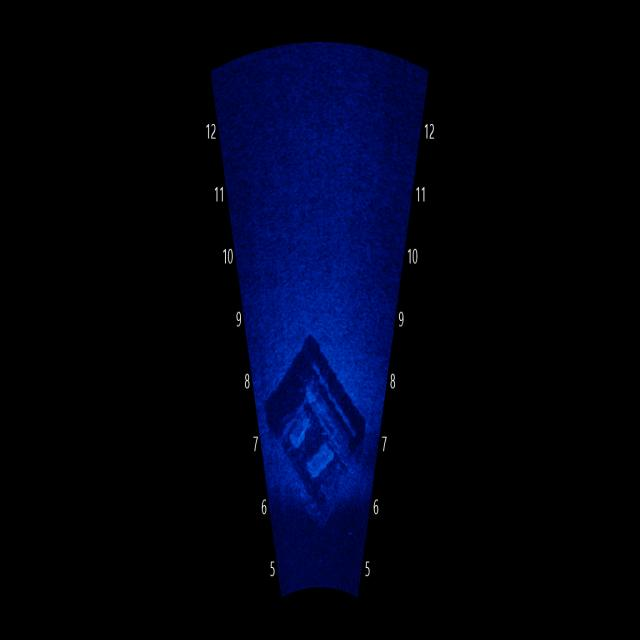square: (260, 331, 371, 526)
